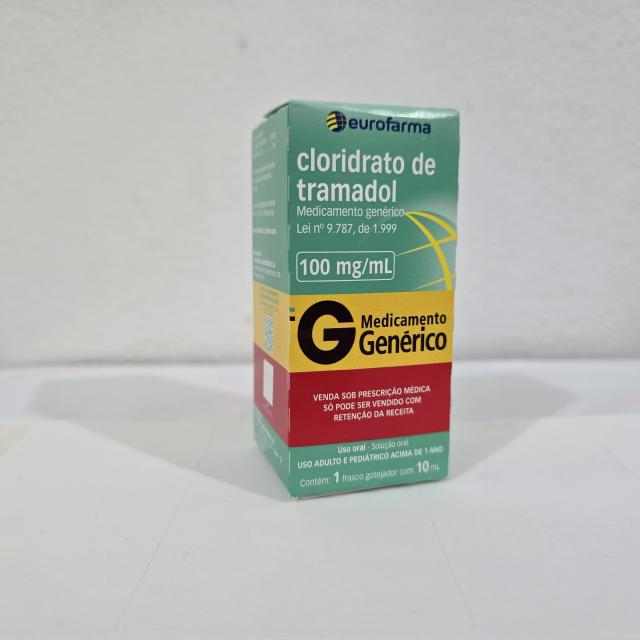tramadol: (245, 95, 466, 505)
